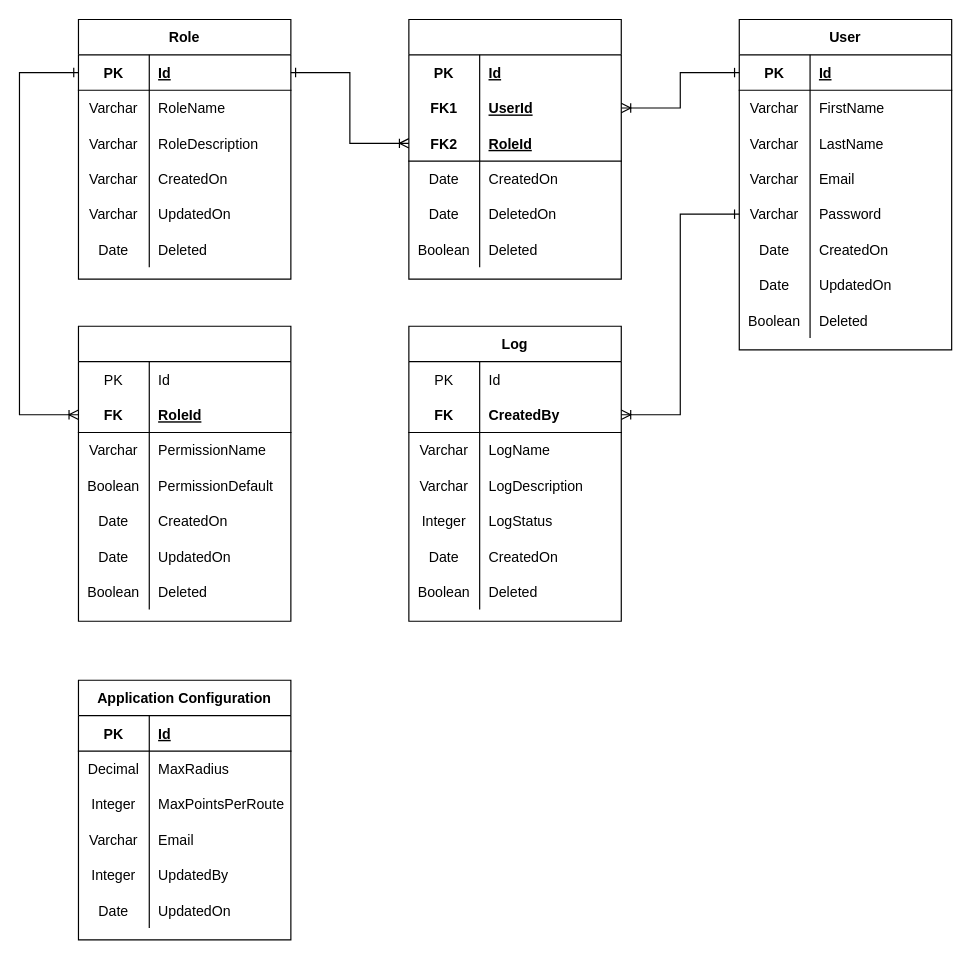
This 971x959 diagram has some shape labels left out. Each missing label, with the box of its shape:
Role Permission: (77, 325, 291, 621)
User Access: (408, 18, 621, 279)
